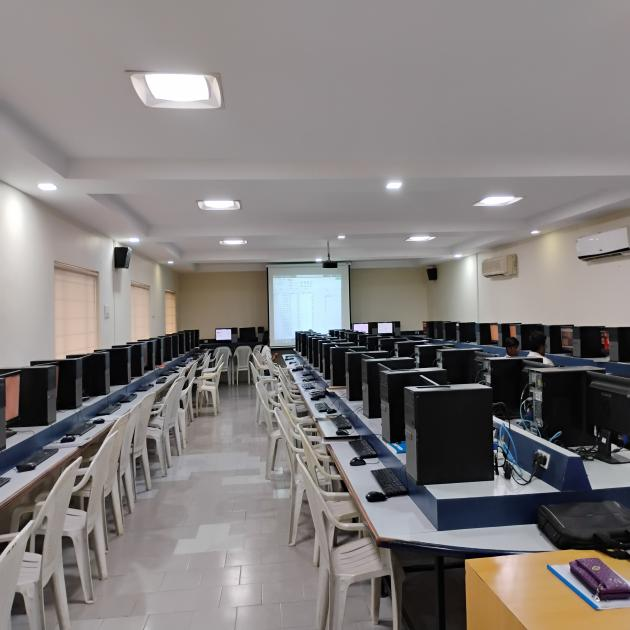air conditioner: (571, 227, 630, 261), (479, 252, 530, 284)
cpu: (398, 381, 509, 498), (527, 361, 626, 465), (26, 362, 68, 427)
desk: (3, 349, 209, 524), (281, 363, 423, 573)
light: (130, 57, 234, 128), (478, 174, 541, 248), (193, 187, 250, 229), (31, 171, 68, 204), (388, 173, 412, 208), (402, 228, 444, 248)
projector: (262, 254, 367, 355)
speaker: (423, 260, 449, 298)
windowscreen: (51, 252, 115, 357), (130, 281, 186, 338)
